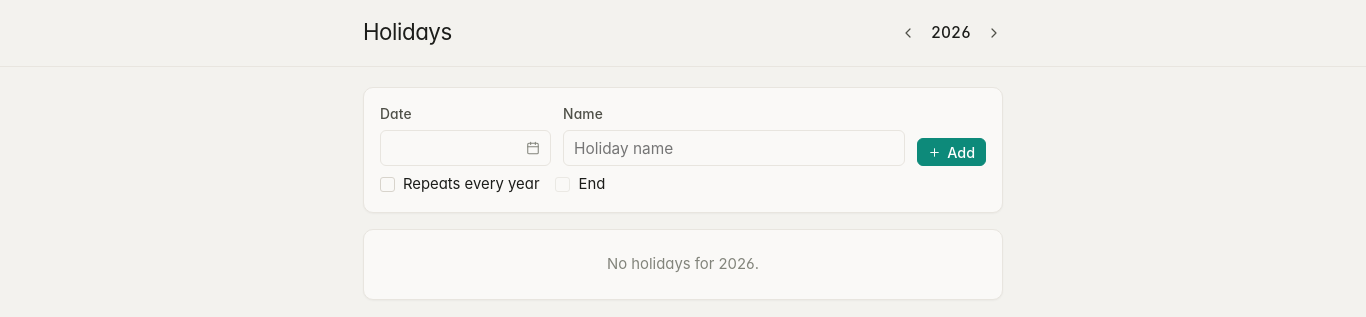
Scenario: AdminHolidays › navigates to previous year when prev button is clicked
Click the 1st button at (908, 33), box [899,16,917,50]
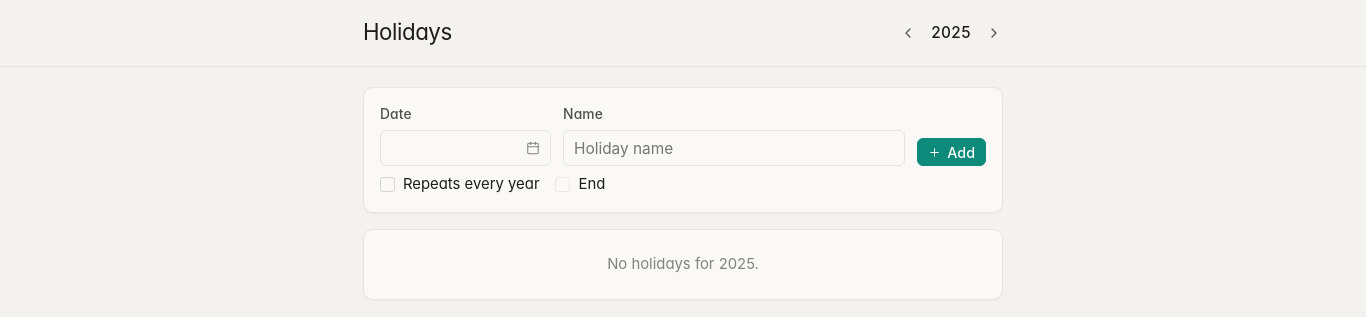
Now the text "2025" is shown, box [931,23,971,42]
